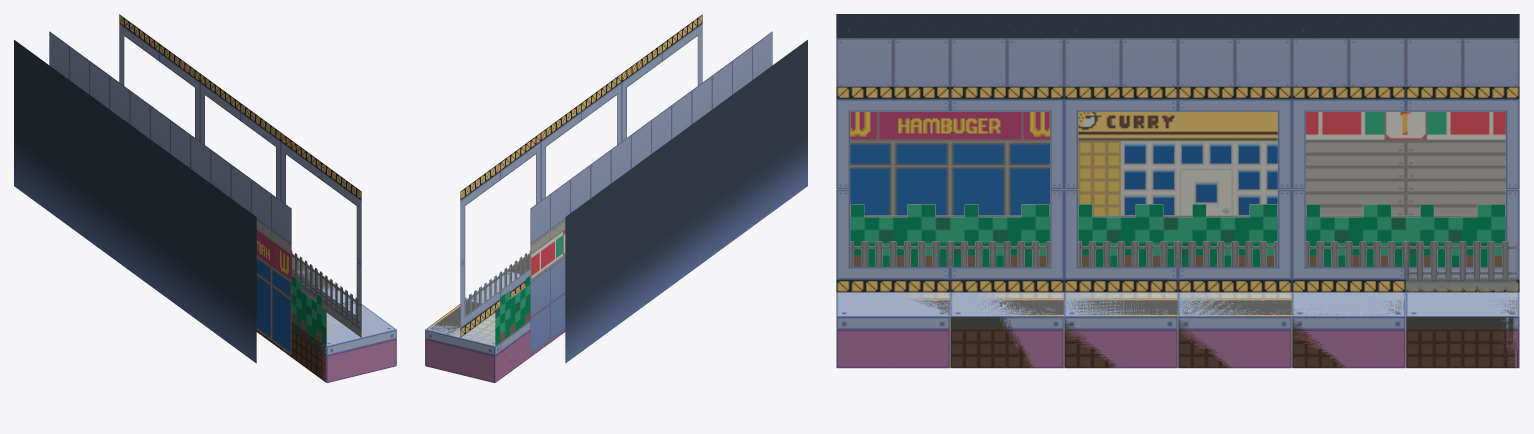
The model's file is LABO.fbx.
3 views of the same model, side by side, from view 1: azimuth 30°, elevation 25°; view 2: azimuth 150°, elevation 25°; view 3: azimuth 270°, elevation 25° (orthographic). The views are drawn at different scales.
Visible parts, largest first — view 1: Plane_007, Cube_000, Plane, Plane_004, Cube_003, Plane_003; view 2: Plane_007, Cube_000, Plane, Cube_003, Plane_003, Plane_006; view 3: Cube_000, Cube_003, Plane, Plane_003, Plane_005, Plane_004, Plane_006, Plane_007, Plane_002.
Boxes of the visible parts, x1,y1,x2,y2 form: Plane_007: (14,40,256,363); Cube_000: (119,14,396,382); Plane: (49,31,291,244); Plane_004: (256,220,291,354); Cube_003: (256,250,361,381); Plane_003: (291,275,326,346); Plane_007: (565,40,807,363); Cube_000: (425,14,702,382); Plane: (530,31,772,354); Cube_003: (428,250,530,365); Plane_003: (495,275,530,346); Plane_006: (531,222,565,278); Cube_000: (836,86,1519,368); Cube_003: (850,240,1518,368); Plane: (836,38,1519,86); Plane_003: (850,204,1505,266); Plane_005: (1078,112,1277,215); Plane_004: (850,112,1050,215); Plane_006: (1305,112,1505,215); Plane_007: (836,14,1519,37); Plane_002: (864,215,1476,216).
Size of the model in its own units: 400 by 600 by 1200.
